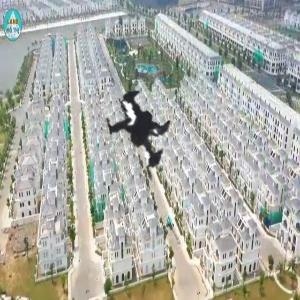drone: (4, 33, 233, 262)
